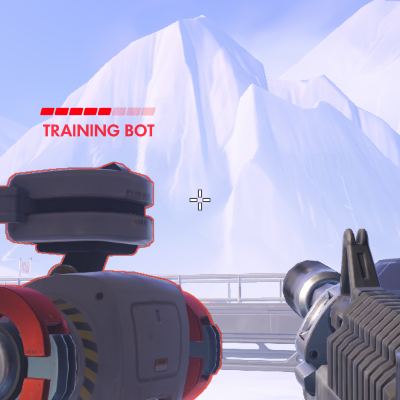hpbar: (40, 107, 156, 116)
